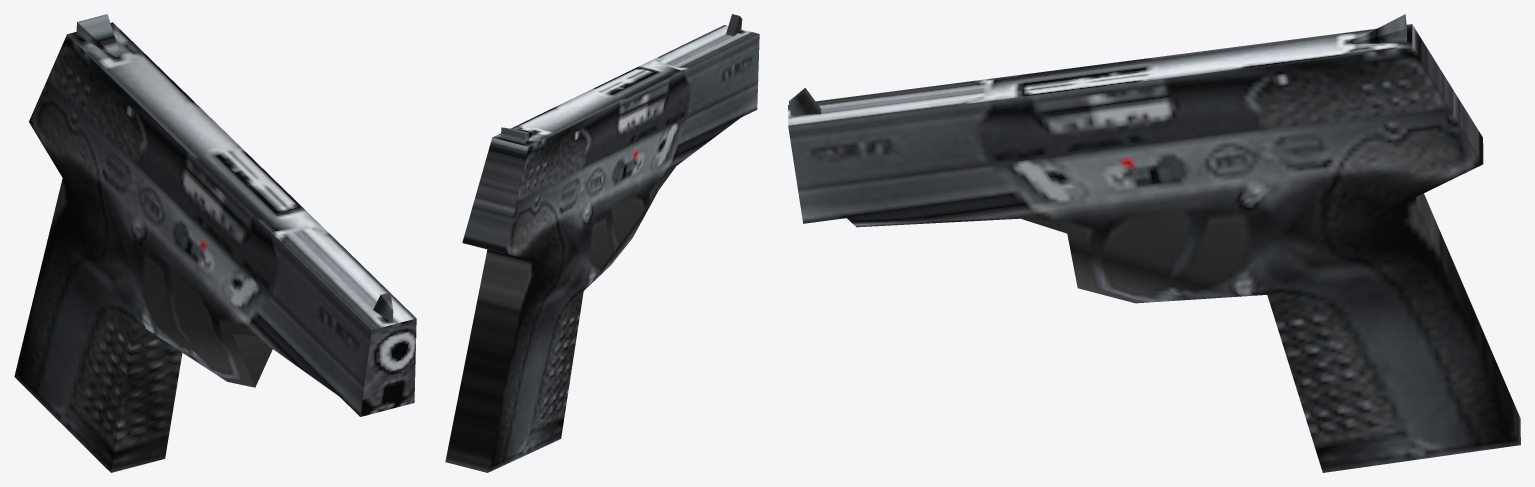
The model's file is fiveseven-world.glb.
The picture shows the model from 3 angles, left to right: view 1: azimuth 30°, elevation 25°; view 2: azimuth 150°, elevation 25°; view 3: azimuth 270°, elevation 25°; orthographic projection. The views are drawn at different scales.
Visible parts, largest first — view 1: fiveseven held; view 2: fiveseven held; view 3: fiveseven held.
Part boxes in pixels (x1=…): fiveseven held: x1=14, y1=14, x2=416, y2=472; fiveseven held: x1=445, y1=14, x2=759, y2=472; fiveseven held: x1=788, y1=14, x2=1520, y2=472.
Size of the model in its own units: 0.0193 by 0.1315 by 0.2003.
1 material, 1 textured.
